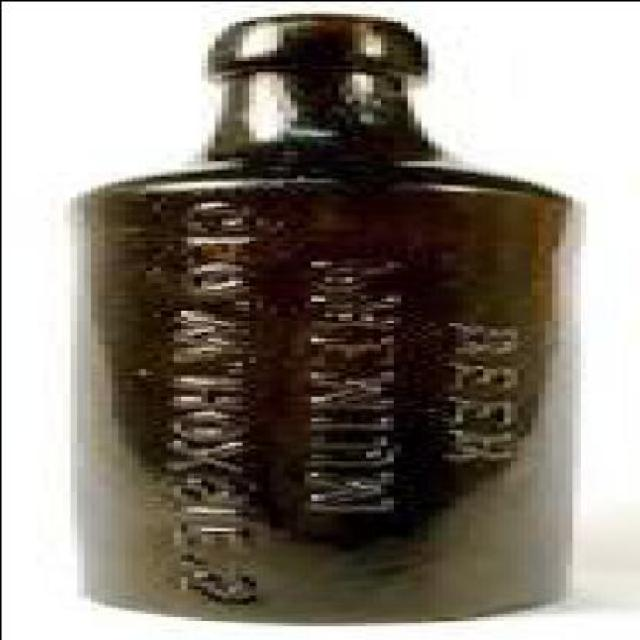GLASS: (83, 12, 585, 622)
